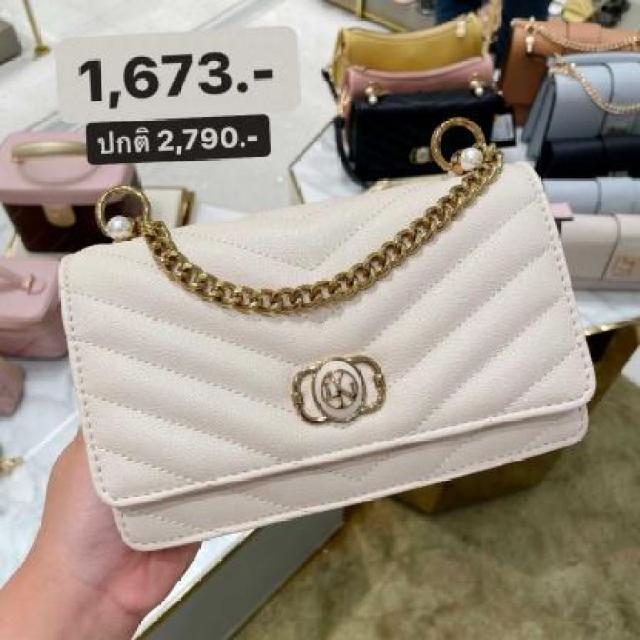Bag: (53, 126, 622, 560)
